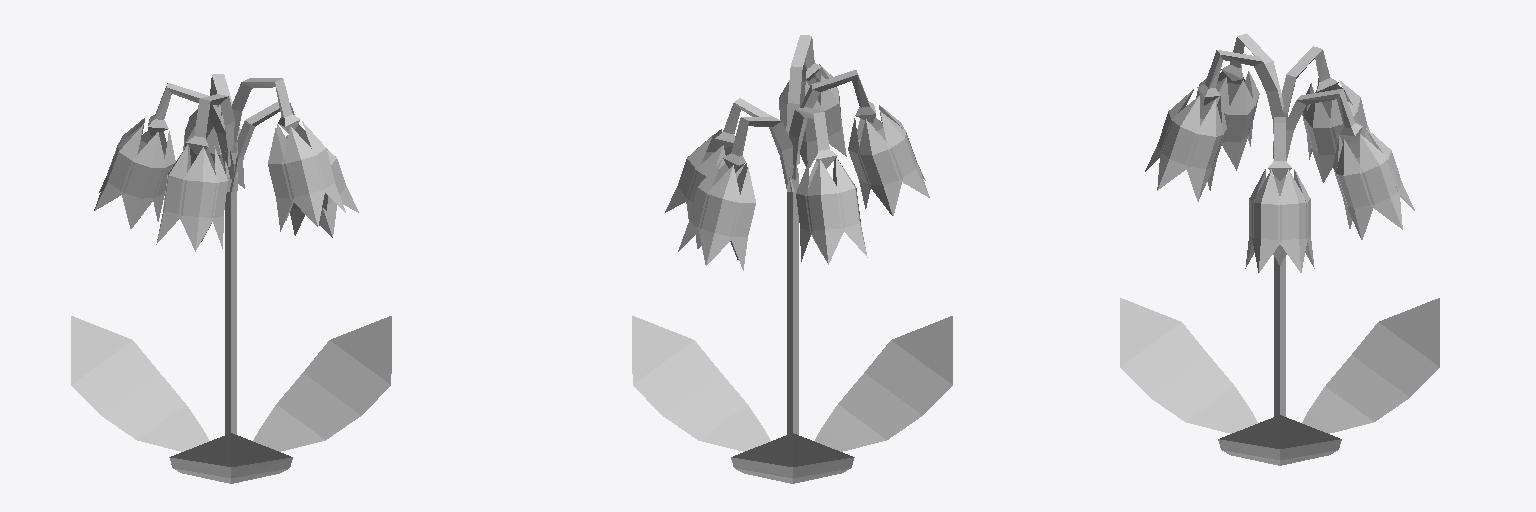
Rendered from bluebells_0005.obj.
3 renders of one model, left to right at view 1: azimuth 30°, elevation 25°; view 2: azimuth 150°, elevation 25°; view 3: azimuth 270°, elevation 25°, orthographic.
Parts seen in each view (by area): view 1: bluebells_0005; view 2: bluebells_0005; view 3: bluebells_0005.
Boxes of the visible parts, x1,y1,x2,y2 form: bluebells_0005: [71, 74, 391, 483]; bluebells_0005: [632, 35, 952, 483]; bluebells_0005: [1120, 33, 1439, 465].
Size of the model in its own units: 2.19 by 3.09 by 2.24.